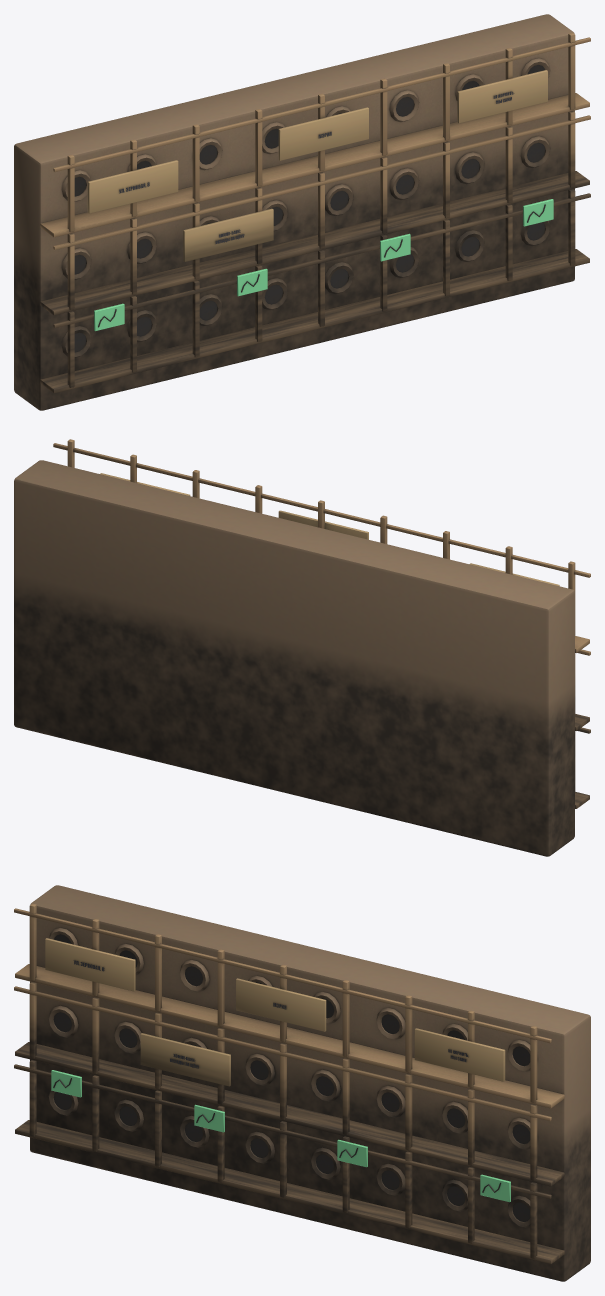
File: g67_pz_hamster_wall.glb
The picture shows the model from 3 angles, top to bottom: view 1: azimuth 30°, elevation 25°; view 2: azimuth 150°, elevation 25°; view 3: azimuth 330°, elevation 25°; orthographic projection.
Visible parts, largest first — view 1: g67_pz_hamster_wall; view 2: g67_pz_hamster_wall; view 3: g67_pz_hamster_wall.
Boxes of the visible parts, x1=… form: g67_pz_hamster_wall: x1=14, y1=14, x2=590, y2=410; g67_pz_hamster_wall: x1=14, y1=439, x2=590, y2=856; g67_pz_hamster_wall: x1=14, y1=885, x2=590, y2=1281.
Bounding box in the file's own units: 9 × 4.2 × 1.29.
Materials: 1 (1 with a texture image).
